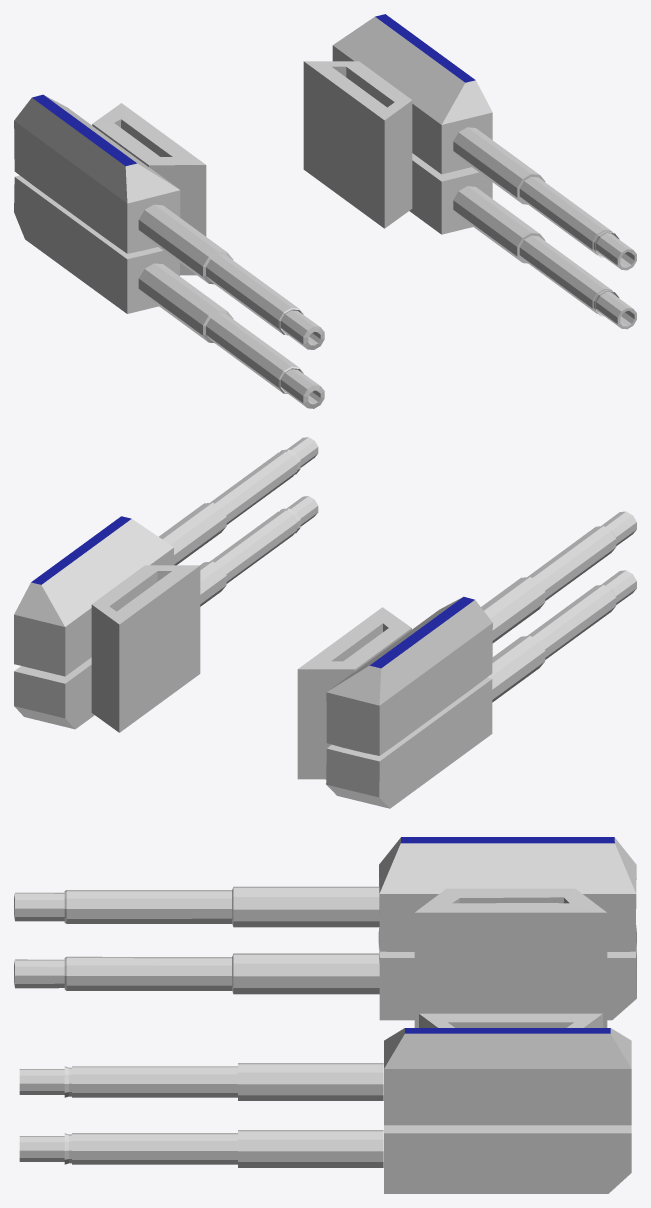
The model's file is turret_2.fbx.
3 views of the same model, one above another, from view 1: azimuth 30°, elevation 25°; view 2: azimuth 150°, elevation 25°; view 3: azimuth 270°, elevation 25° (orthographic). The views are drawn at different scales.
Visible parts, largest first — view 1: cannon 01; view 2: cannon 01; view 3: cannon 01.
Part boxes in pixels (bbox=[...]): cannon 01: bbox=[14, 14, 636, 408]; cannon 01: bbox=[14, 437, 636, 808]; cannon 01: bbox=[14, 837, 636, 1193].
Size of the model in its own units: 297 by 107 by 383.
